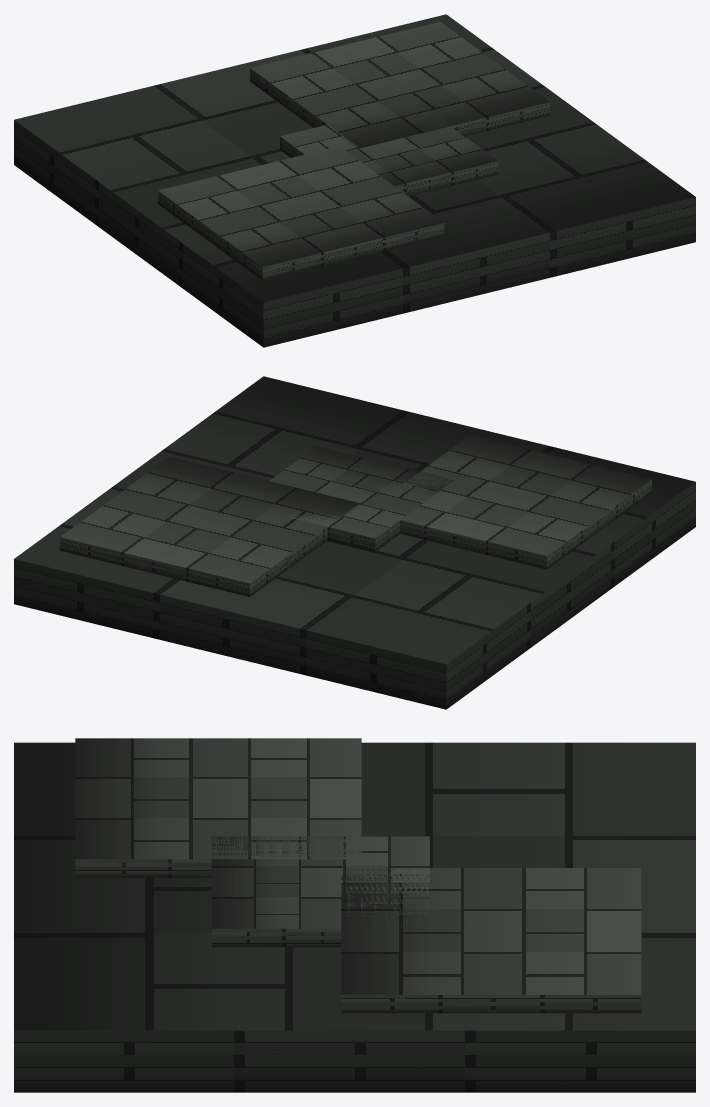
Rendered from ground_flagstone.gltf.
3 renders of one model, top to bottom at view 1: azimuth 30°, elevation 25°; view 2: azimuth 150°, elevation 25°; view 3: azimuth 270°, elevation 25°, orthographic. The views are drawn at different scales.
Parts seen in each view (by area): view 1: ground_flagstone; view 2: ground_flagstone; view 3: ground_flagstone.
Boxes of the visible parts, x1,y1,x2,y2 form: ground_flagstone: (14,14,695,347); ground_flagstone: (14,376,695,709); ground_flagstone: (14,738,695,1092).
Size of the model in its own units: 1 by 0.13 by 1.
1 material, 1 textured.
